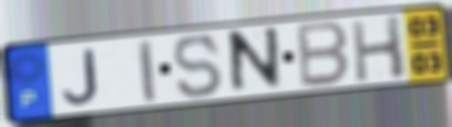B: (296, 18, 352, 91)
H: (348, 12, 409, 85)
I: (135, 37, 159, 105)
J: (60, 46, 101, 108)
N: (228, 24, 284, 98)
S: (170, 32, 226, 101)
